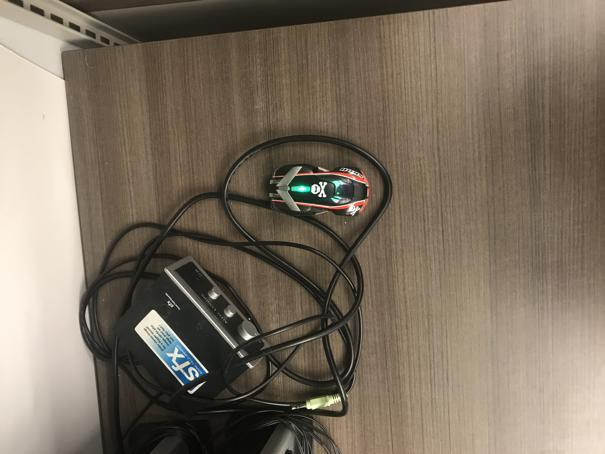Skull: (266, 164, 371, 216)
